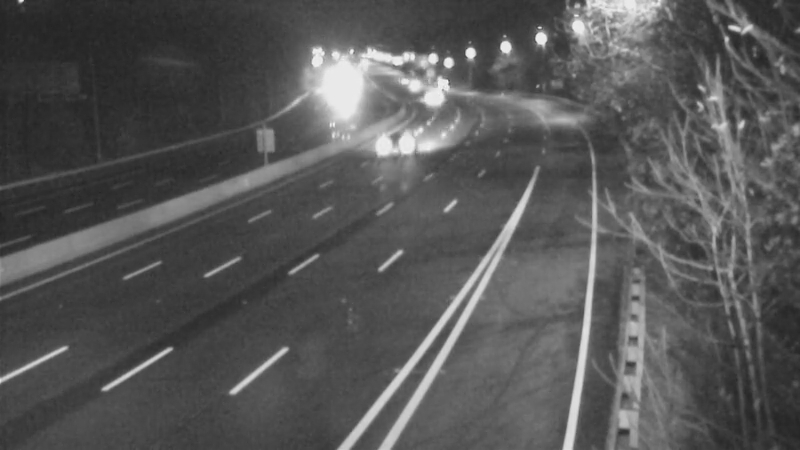vehicle: (419, 62, 469, 112), (387, 59, 437, 109), (409, 71, 459, 121), (374, 120, 424, 170), (314, 73, 364, 123)
